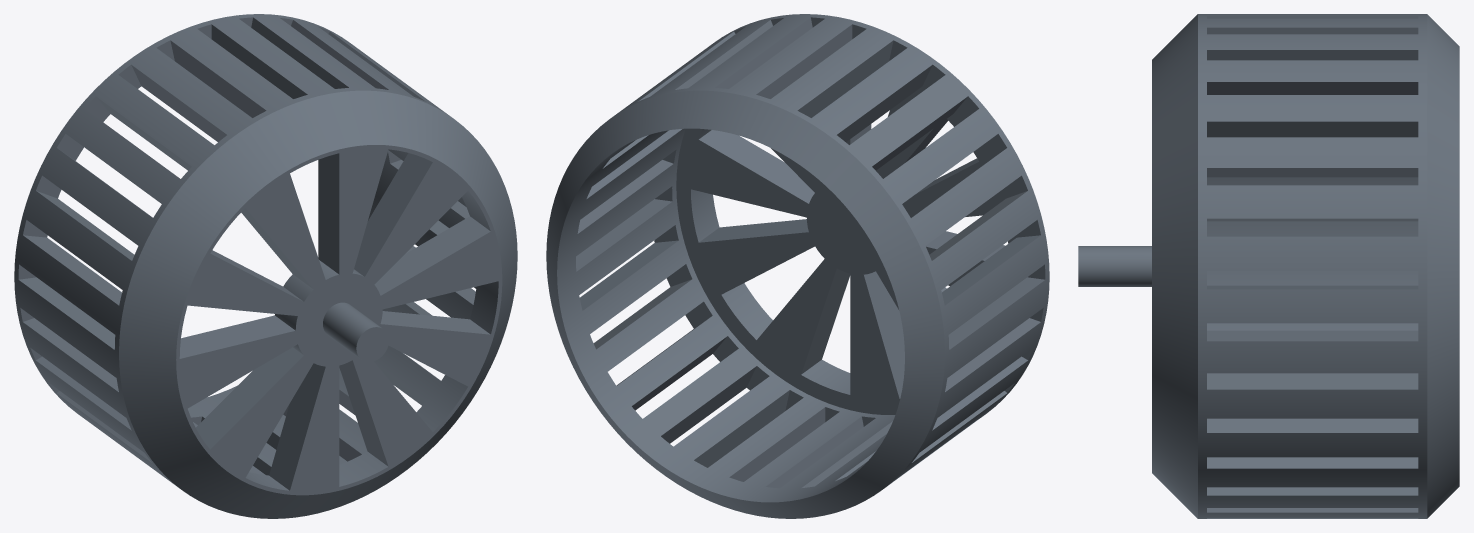
The model's file is ROVER_V1 - weel_right_midle.gltf.
3 renders of one model, left to right at view 1: azimuth 30°, elevation 25°; view 2: azimuth 150°, elevation 25°; view 3: azimuth 270°, elevation 25°, orthographic. The views are drawn at different scales.
Parts seen in each view (by area): view 1: weel_right_midle; view 2: weel_right_midle; view 3: weel_right_midle.
Part boxes in pixels (x1=…): weel_right_midle: x1=14, y1=14, x2=517, y2=518; weel_right_midle: x1=546, y1=14, x2=1049, y2=518; weel_right_midle: x1=1078, y1=14, x2=1459, y2=518.
Size of the model in its own units: 0.55 by 0.55 by 0.415.
